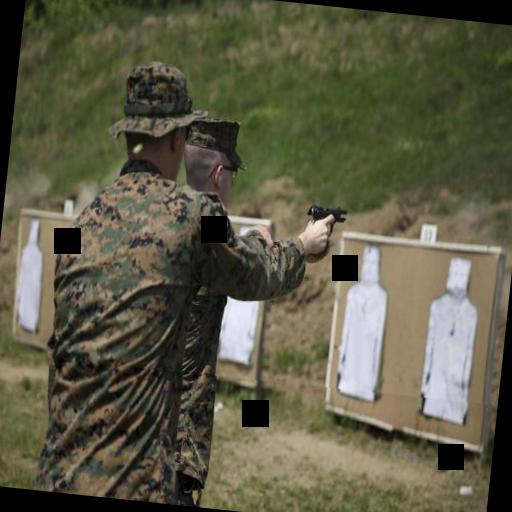Handgun: (304, 198, 350, 236)
